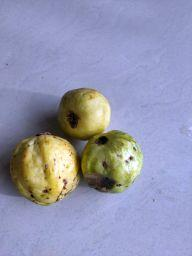guava: (10, 131, 80, 208), (81, 128, 143, 194), (58, 86, 114, 140)
